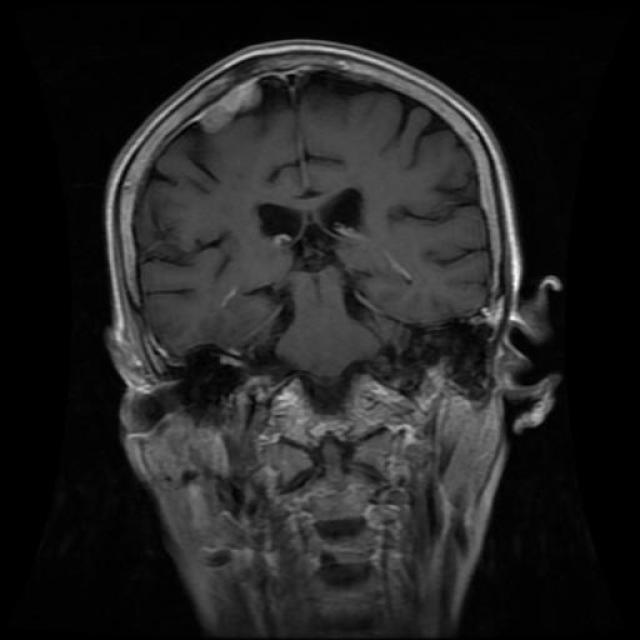meningioma: (200, 79, 262, 134)
